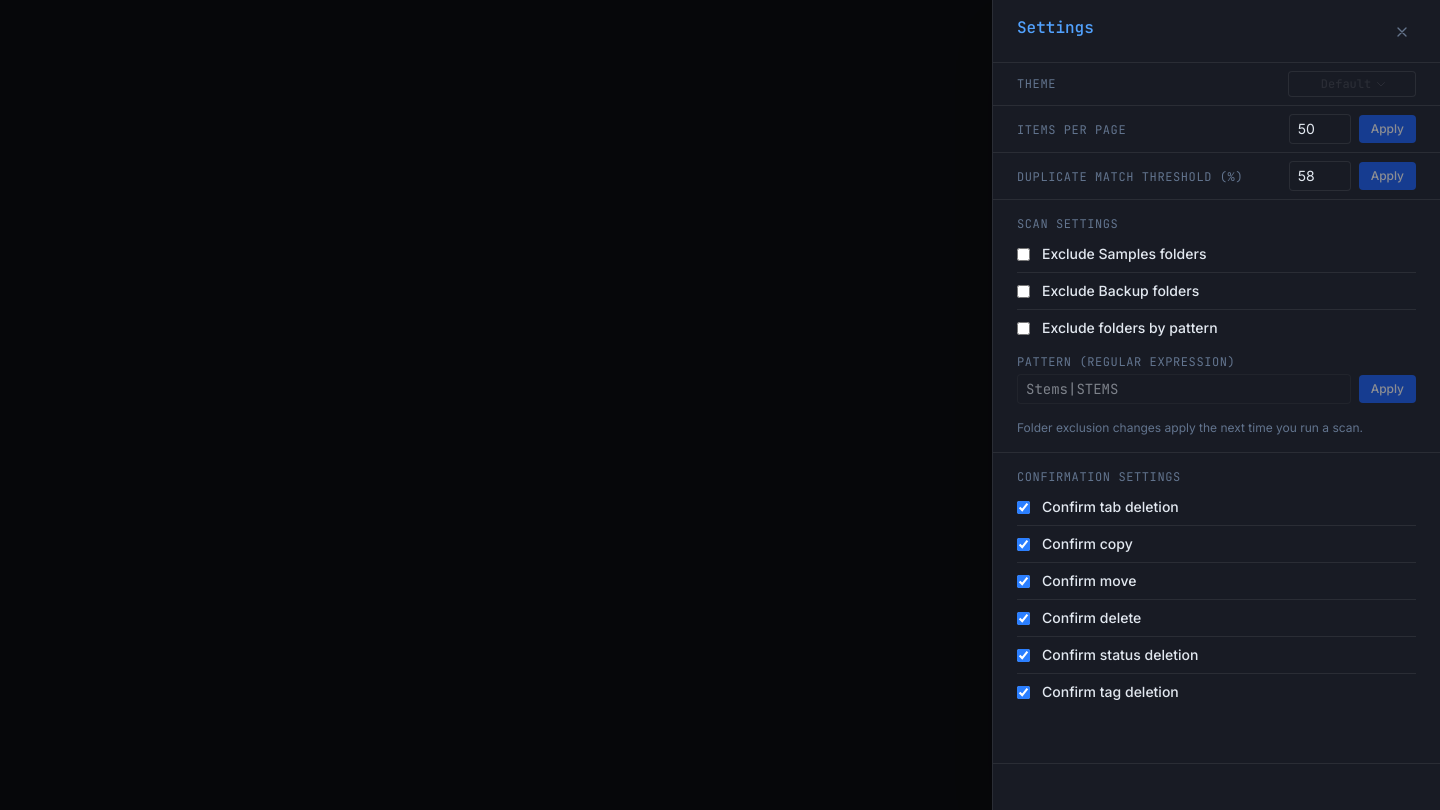
Test: SettingsPanel - bottom notification auto-dismiss › does not dismiss a 'Saving…' message after 2 seconds while the request is still in flight
What coordinates should you click on to do the following:
click the checkbox labelled "Exclude Samples folders"
I would click on:
 (1024, 254)
Its box is [1017,248,1030,260].
Wait 2000 ms
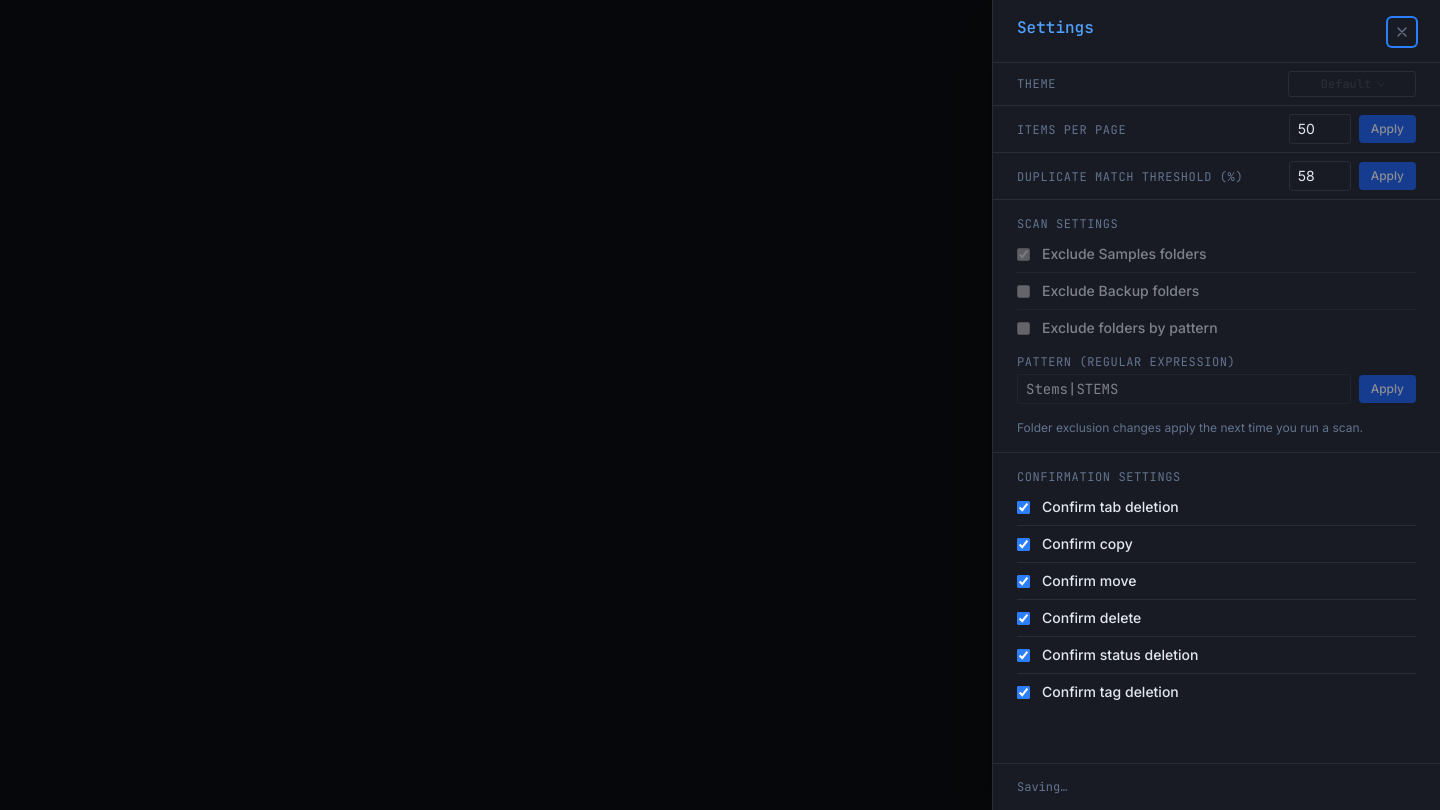
Check: the text "Saving…" is shown, box [1017,779,1067,795]
